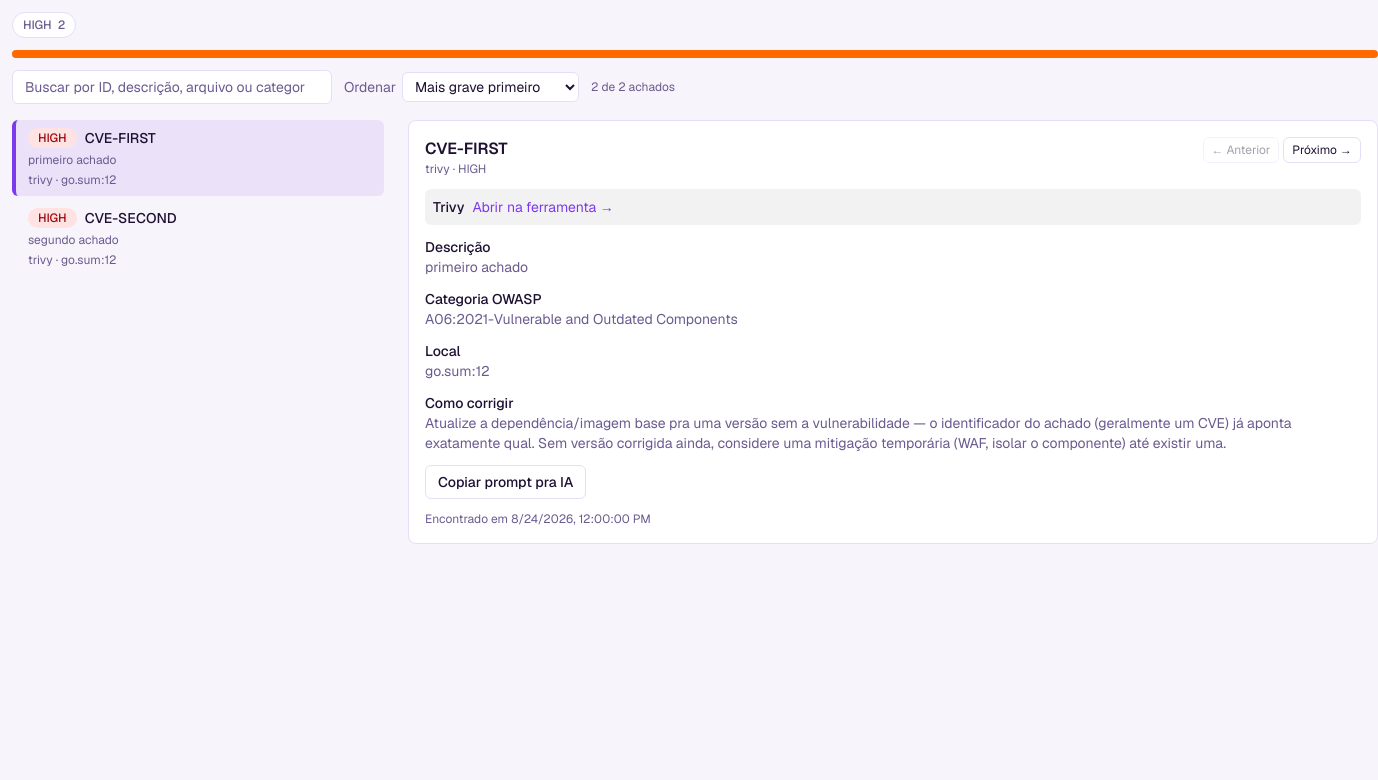
Scenario: FindingsTable › botões Anterior/Próximo do painel de detalhe navegam entre achados e desabilitam nas pontas
Expected: the element named "Detalhe do achado" is shown, [408,120,1377,544]
Expected: the button with aria-label "Achado anterior" is disabled, [1203,137,1279,163]
Click the button with aria-label "Próximo achado": [1322, 150] box [1283,137,1361,163]
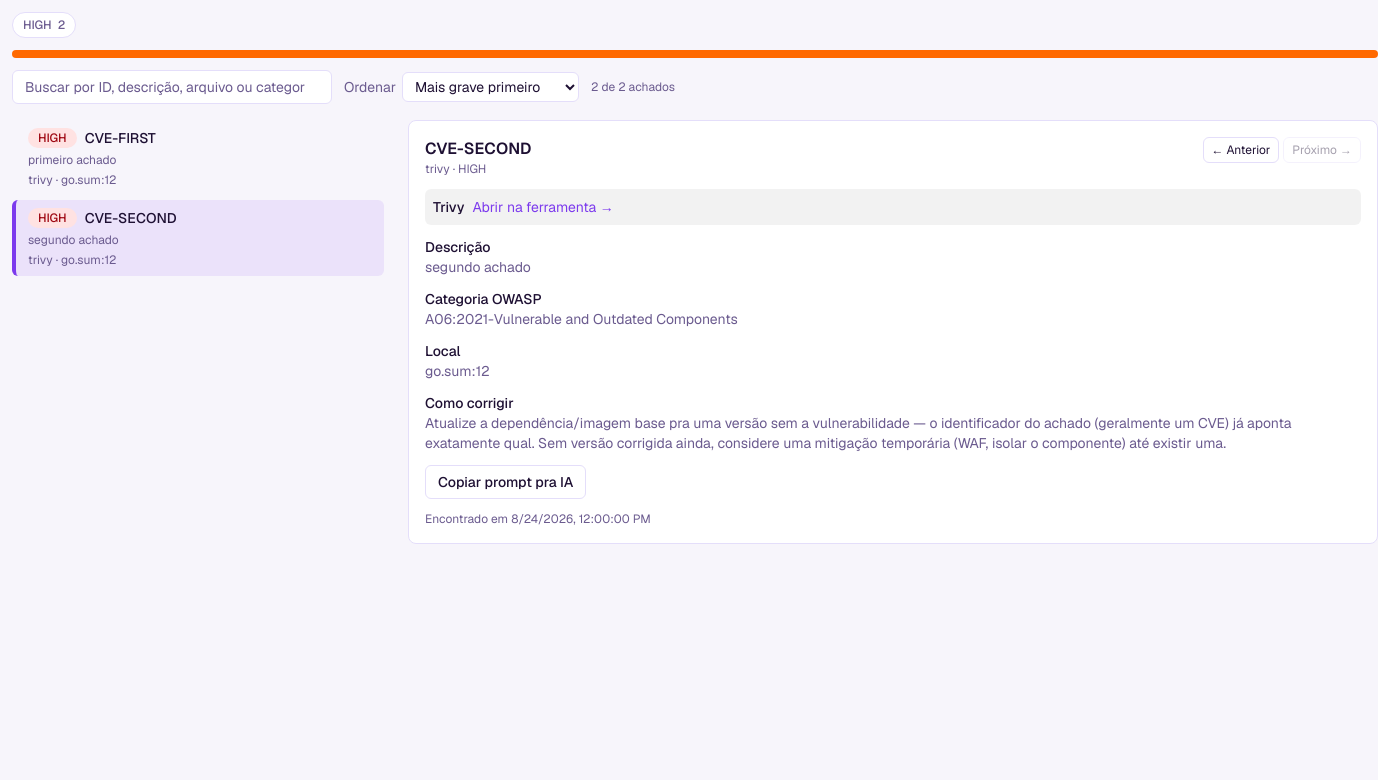
Expected: the text "segundo achado" below "Descrição" is shown, [425,258,531,276]
Expected: the button with aria-label "Próximo achado" is disabled, [1283,137,1361,163]
